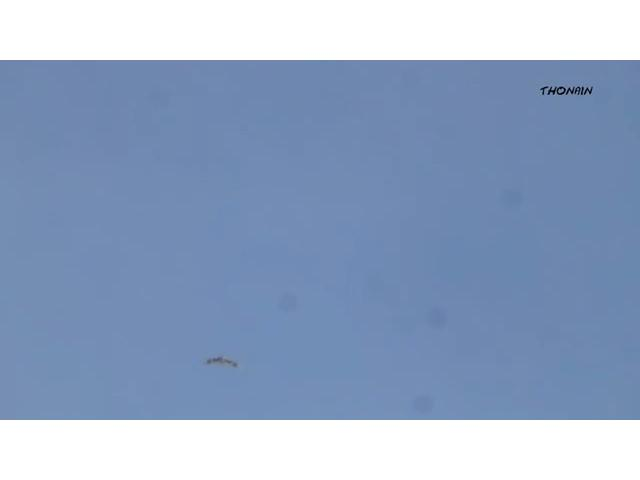Anti-Drone: (200, 353, 254, 374)
